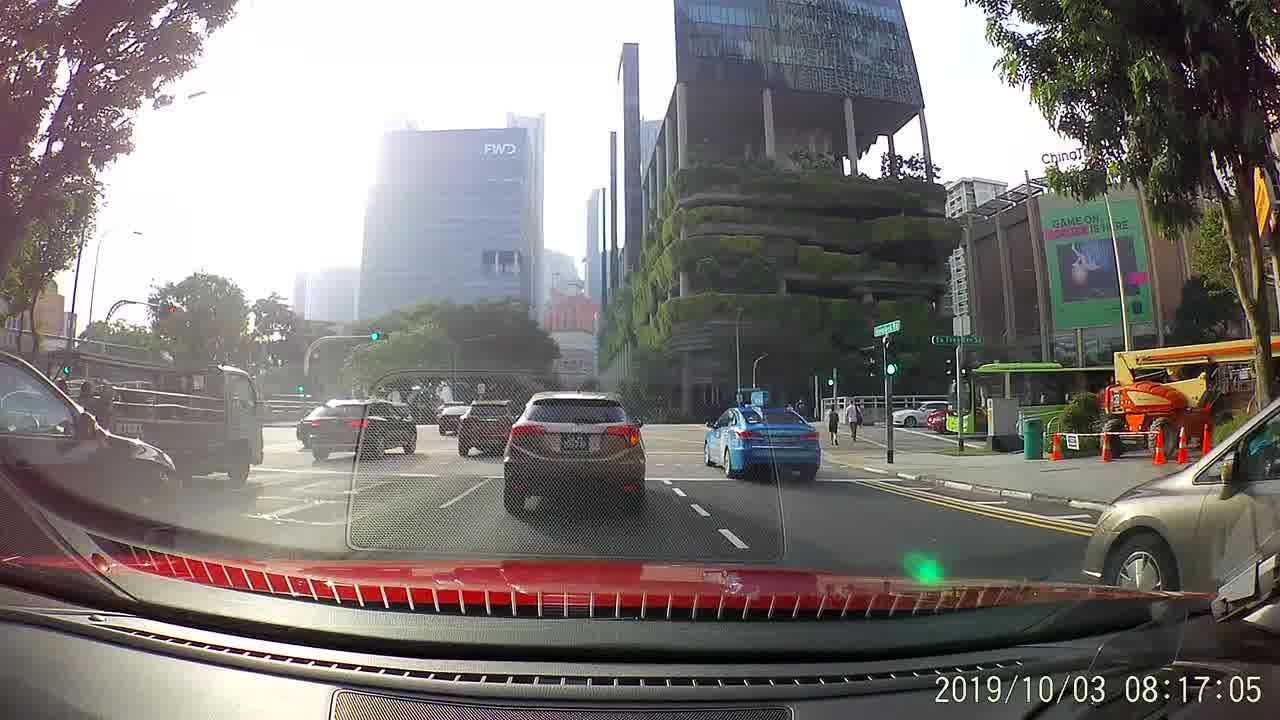bus: (949, 360, 1117, 455)
car: (1079, 373, 1279, 589), (0, 349, 185, 552), (503, 390, 645, 521), (703, 386, 822, 485), (310, 397, 419, 461), (457, 395, 522, 457), (890, 401, 950, 435), (436, 404, 471, 435)
